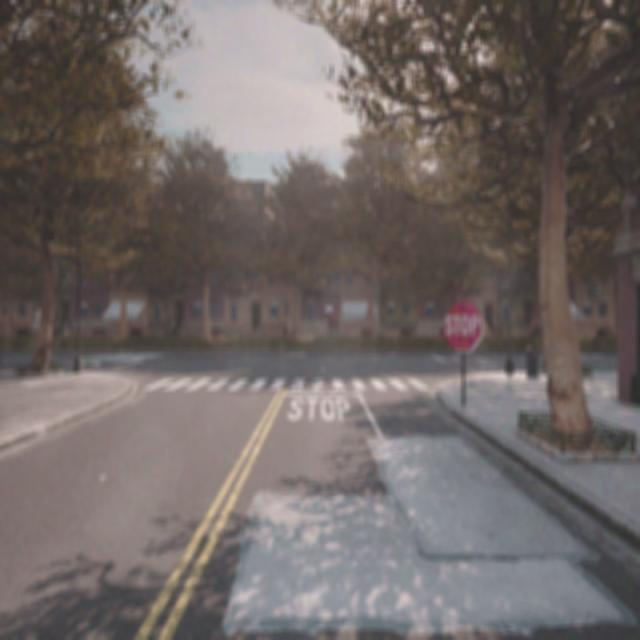stop sign: (440, 296, 486, 355), (444, 311, 482, 338)
